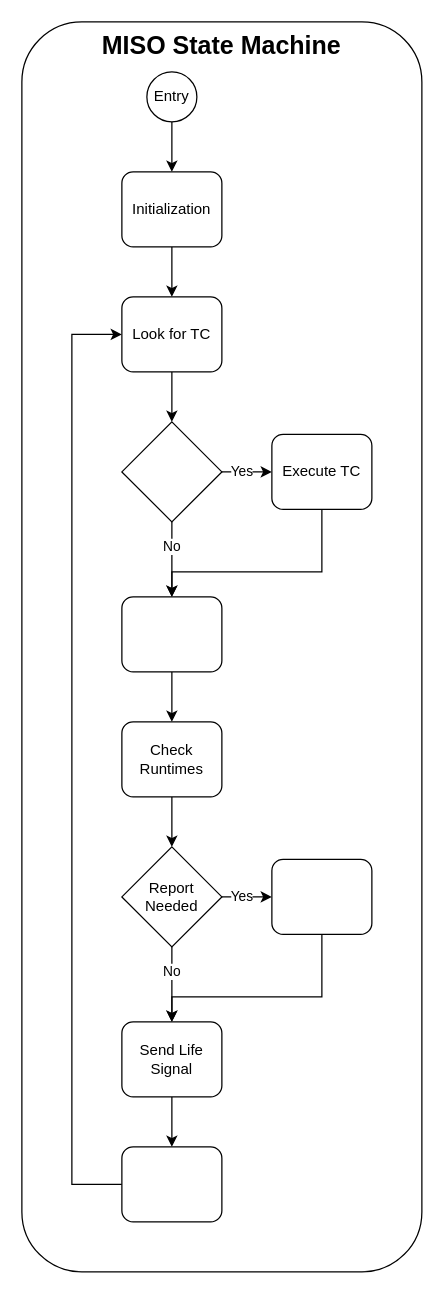
Image size: 444x1294. Some labels were removed from this diagram. The centre of each missing label's shape, as x and y in pixels:
"Build Report" belongs at pixel 321 896.
"Check Stack Usage" belongs at pixel 171 634.
"TC Presence ?" belongs at pixel 171 471.
"Wait until next period" belongs at pixel 171 1184.
